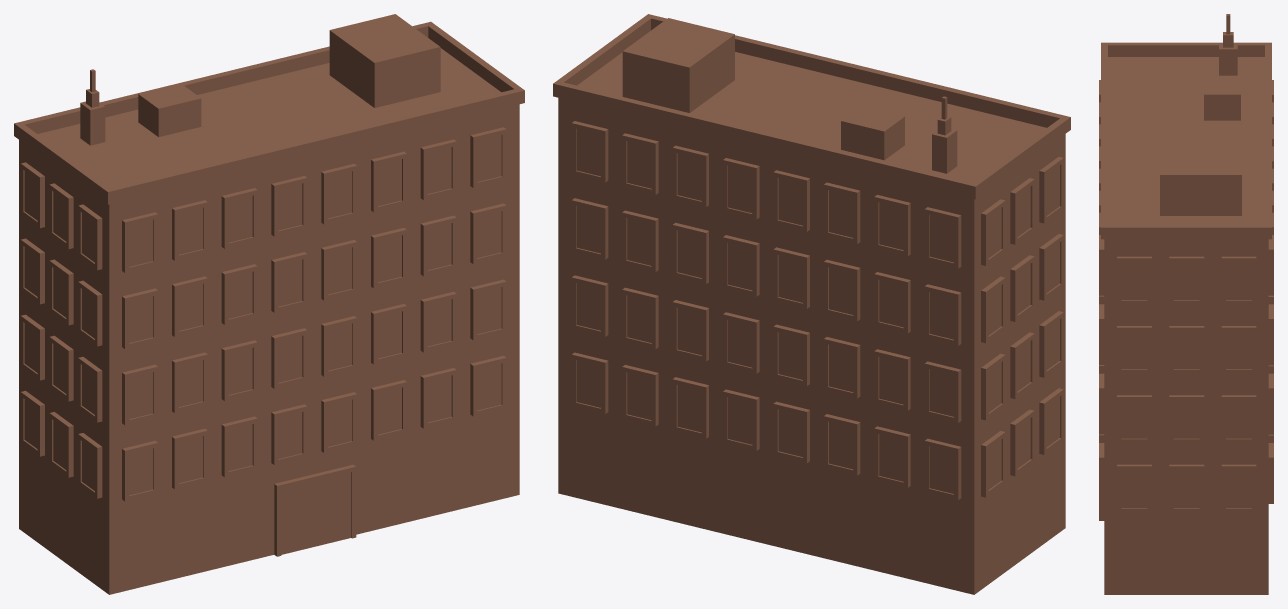
Rendered from Predio Grande.fbx.
3 renders of one model, left to right at view 1: azimuth 30°, elevation 25°; view 2: azimuth 150°, elevation 25°; view 3: azimuth 270°, elevation 25°, orthographic. The views are drawn at different scales.
Visible parts, largest first — view 1: Predio Grande; view 2: Predio Grande; view 3: Predio Grande.
Boxes of the visible parts, x1=… form: Predio Grande: x1=14, y1=14, x2=524, y2=594; Predio Grande: x1=553, y1=14, x2=1070, y2=594; Predio Grande: x1=1099, y1=14, x2=1273, y2=594.
Bounding box in the file's own units: 1341 × 1413 × 532.
